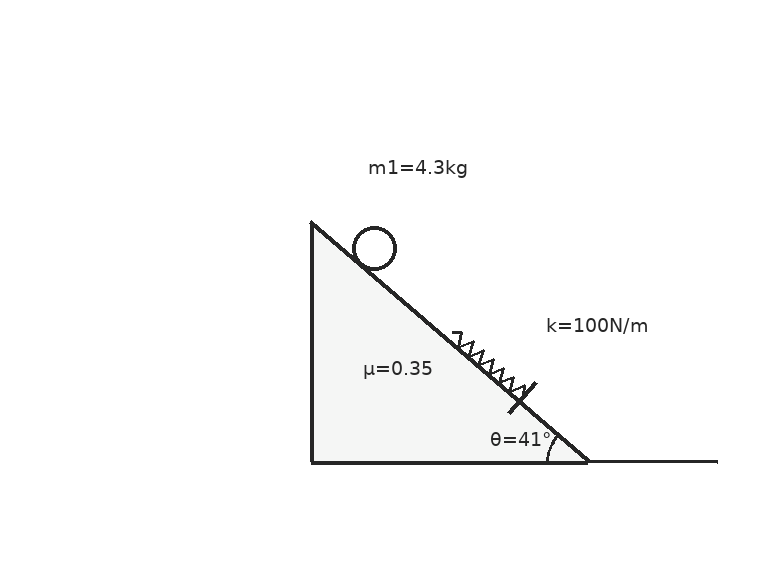ball: (350, 224, 398, 272)
ramp: (309, 220, 589, 464)
spring: (450, 330, 526, 397)
